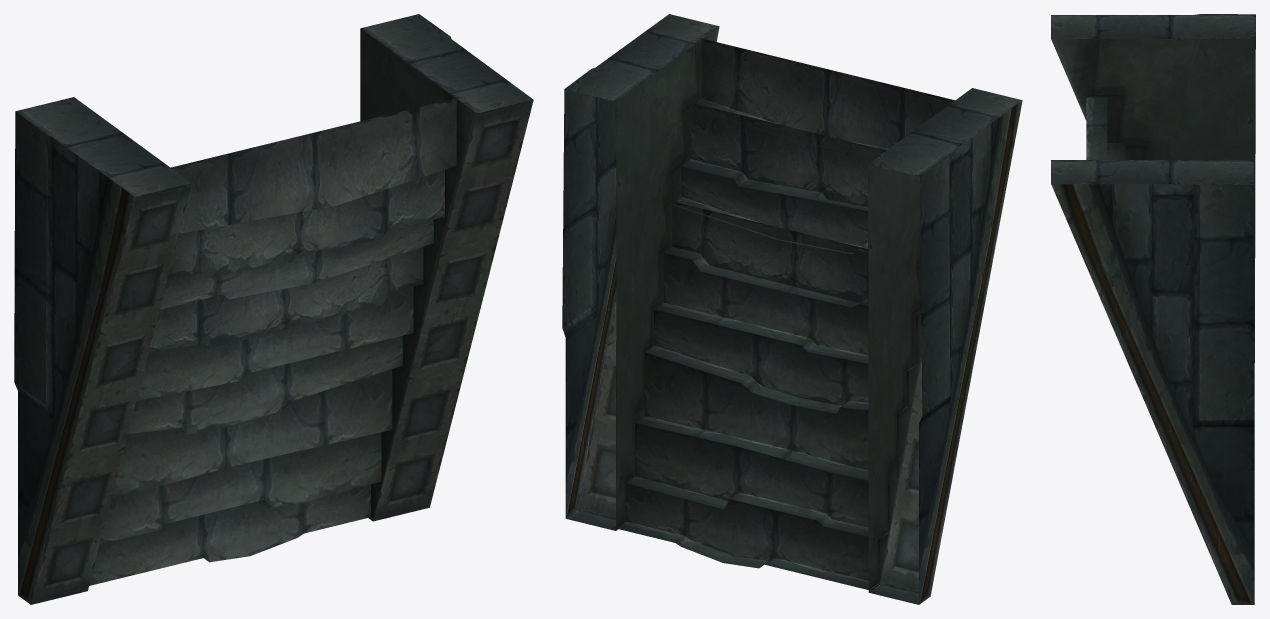
File: shenjie_fuben_01_louti_3.obj
The picture shows the model from 3 angles, left to right: view 1: azimuth 30°, elevation 25°; view 2: azimuth 150°, elevation 25°; view 3: azimuth 270°, elevation 25°; orthographic projection. The views are drawn at different scales.
Visible parts, largest first — view 1: shenjie_fuben_01_louti_3; view 2: shenjie_fuben_01_louti_3; view 3: shenjie_fuben_01_louti_3.
Part boxes in pixels (box(x1,y1,x2,y2)): shenjie_fuben_01_louti_3: box(14, 14, 533, 604); shenjie_fuben_01_louti_3: box(562, 14, 1022, 604); shenjie_fuben_01_louti_3: box(1051, 14, 1255, 604).
Size of the model in its own units: 683 by 790 by 343.
1 material, 1 textured.
